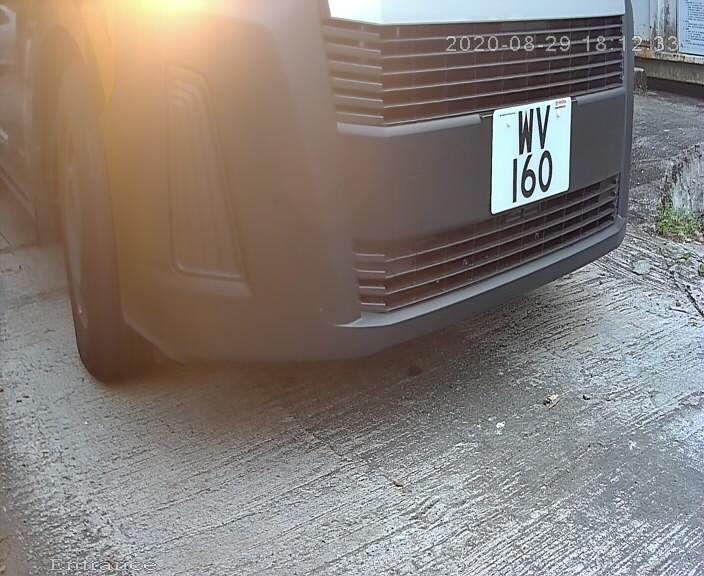License Plate: (478, 85, 579, 224)
